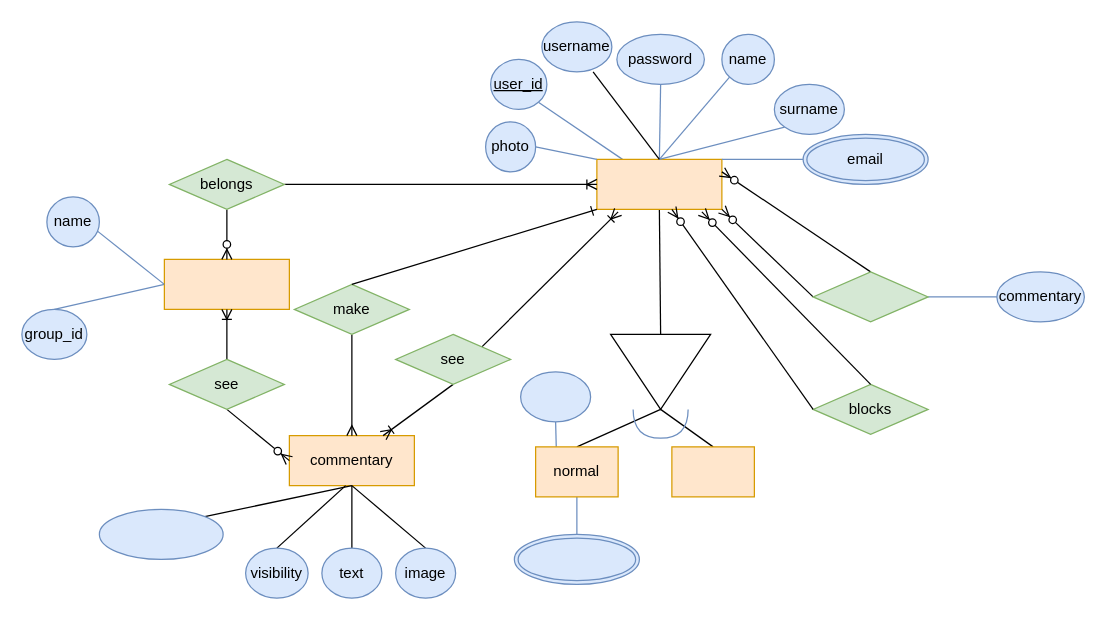
This 1106x620 diagram has some shape labels left out. Here are the shapes that lost their labels. From the top down, the centre of each, then its label:
the point at 659,183: user
the point at 226,283: group
the point at 870,296: contact
the point at 555,396: address
the point at 712,471: vip
the point at 160,533: commentary _id
the point at 576,558: phone_number
